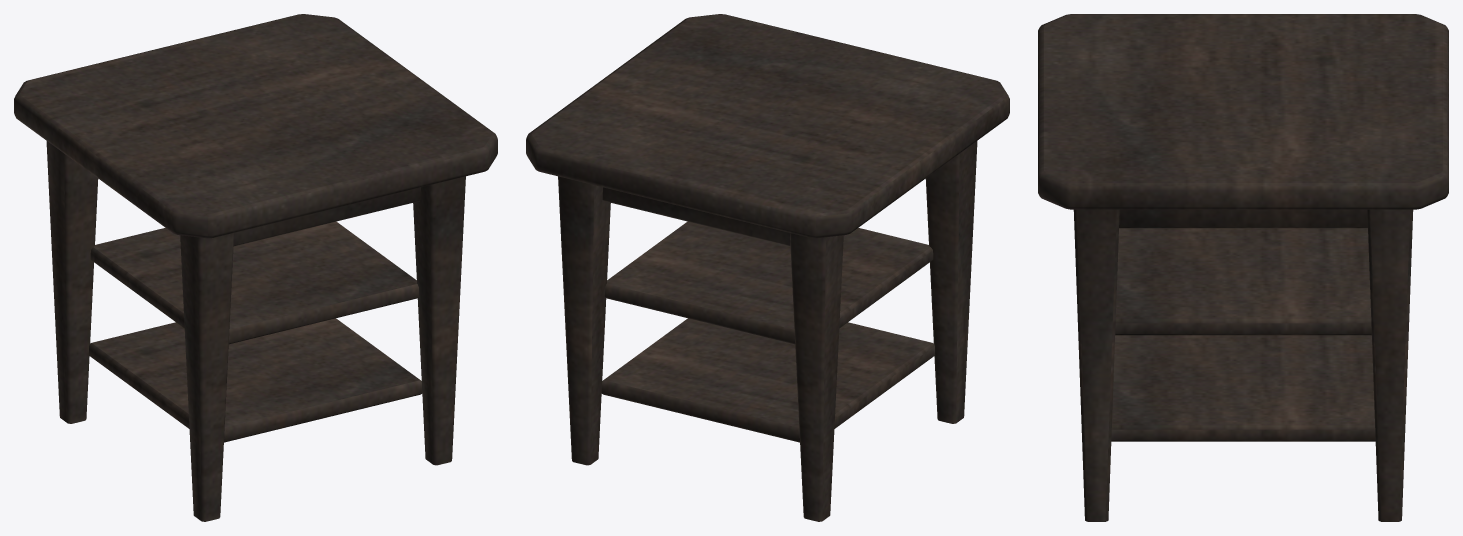
Rendered from table_small_2.obj.
3 views of the same model, side by side, from view 1: azimuth 30°, elevation 25°; view 2: azimuth 150°, elevation 25°; view 3: azimuth 270°, elevation 25° (orthographic). The views are drawn at different scales.
Parts seen in each view (by area): view 1: table_small_2; view 2: table_small_2; view 3: table_small_2.
Boxes of the visible parts, x1=… form: table_small_2: x1=14, y1=14, x2=497, y2=521; table_small_2: x1=526, y1=14, x2=1009, y2=521; table_small_2: x1=1038, y1=14, x2=1448, y2=521.
Size of the model in its own units: 0.7 by 0.67 by 0.7.
